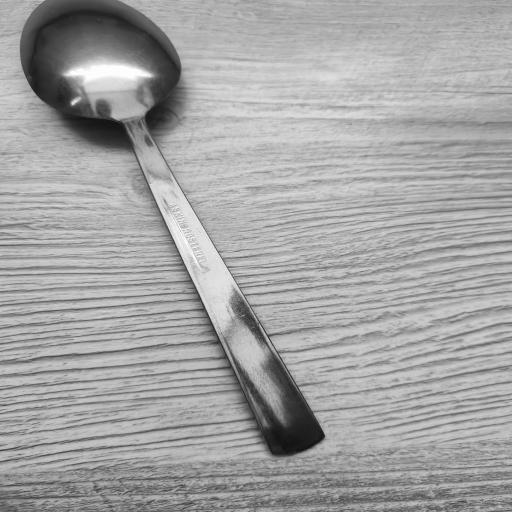spoon: (14, 0, 315, 461)
